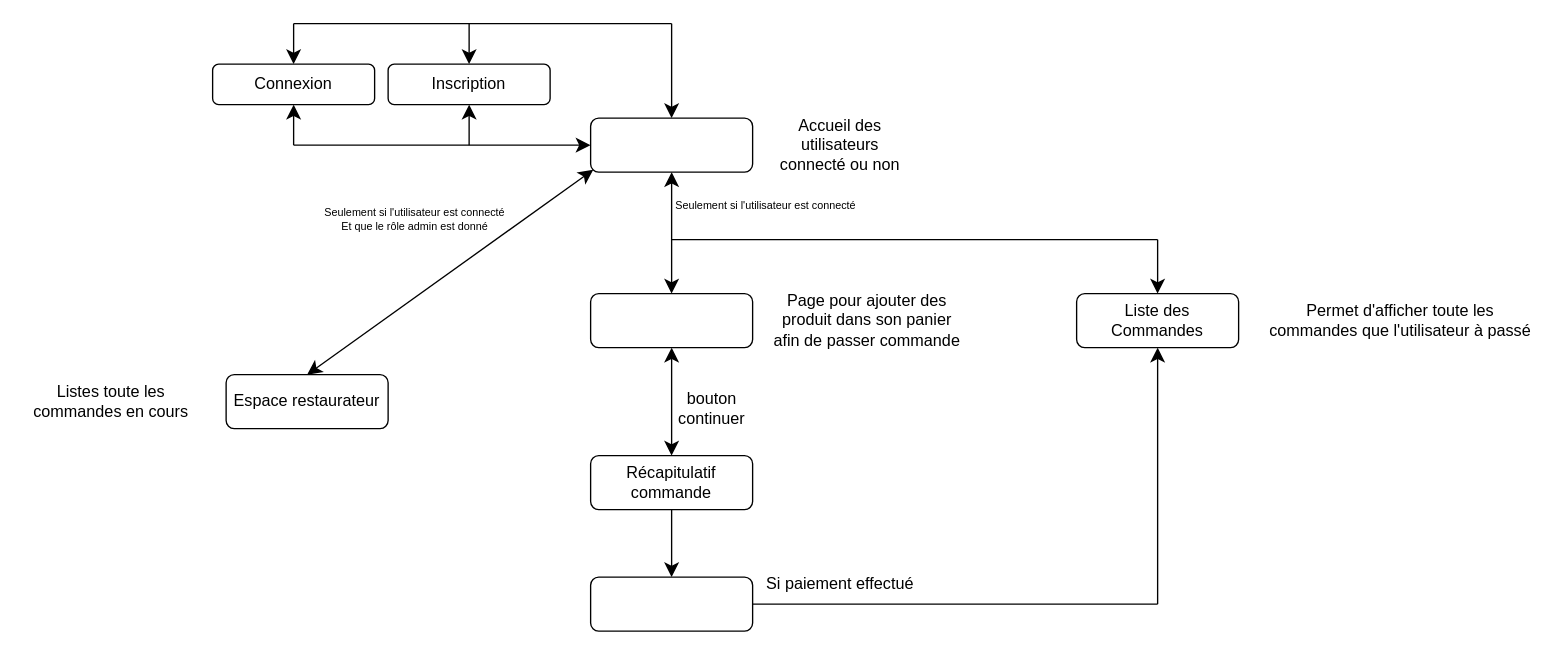
This 1558x655 diagram has some shape labels left out. Each missing label, with the box of its shape:
Accueil: (589, 117, 753, 172)
Commande: (589, 292, 753, 348)
renseignement moyen paiement: (589, 576, 753, 631)
